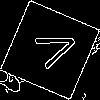V: (25, 25, 81, 73)
